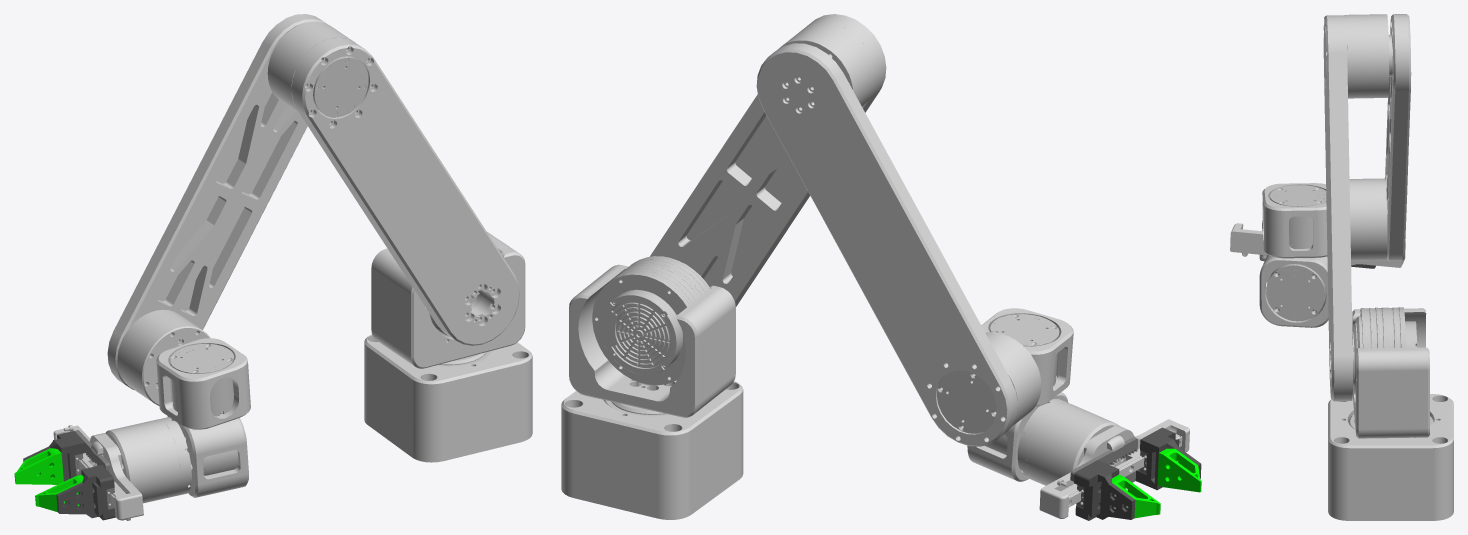
The model's file is con_one_compressed.glb.
3 views of the same model, side by side, from view 1: azimuth 30°, elevation 25°; view 2: azimuth 150°, elevation 25°; view 3: azimuth 270°, elevation 25° (orthographic). The views are drawn at different scales.
Visible parts, largest first — view 1: con1; view 2: con1; view 3: con1.
Boxes of the visible parts, x1,y1,x2,y2 form: con1: (14, 14, 532, 520); con1: (561, 14, 1201, 520); con1: (1230, 14, 1453, 520).
Size of the model in its own units: 1747173 by 1415729 by 699413.
